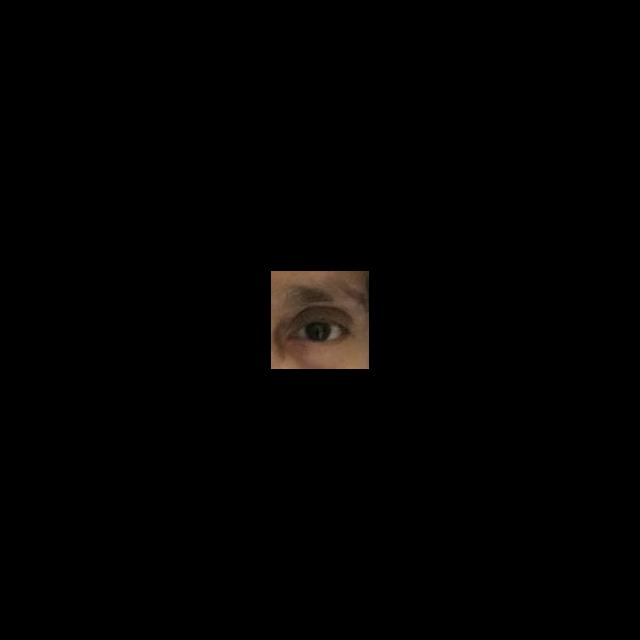eye: (296, 322, 343, 342)
iris: (306, 323, 331, 341)
